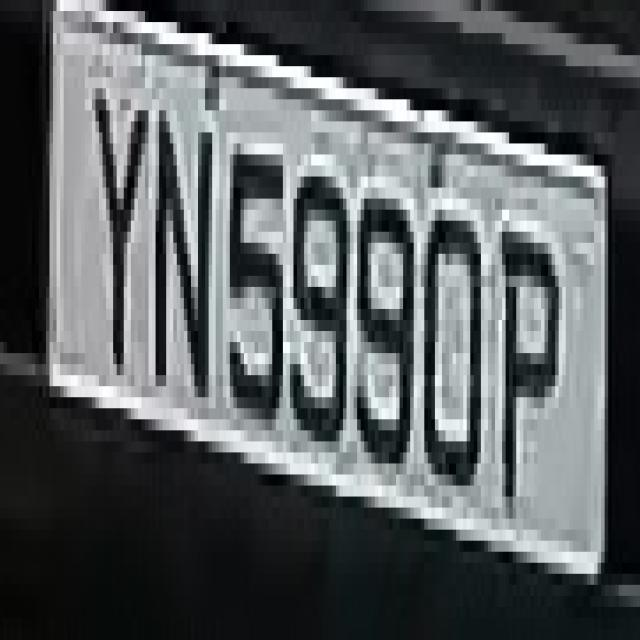0: (417, 154, 492, 518)
5: (223, 110, 290, 430)
9: (286, 122, 354, 486), (350, 143, 421, 486)
N: (145, 78, 219, 420)
P: (481, 188, 566, 540)
Y: (81, 33, 156, 408)
